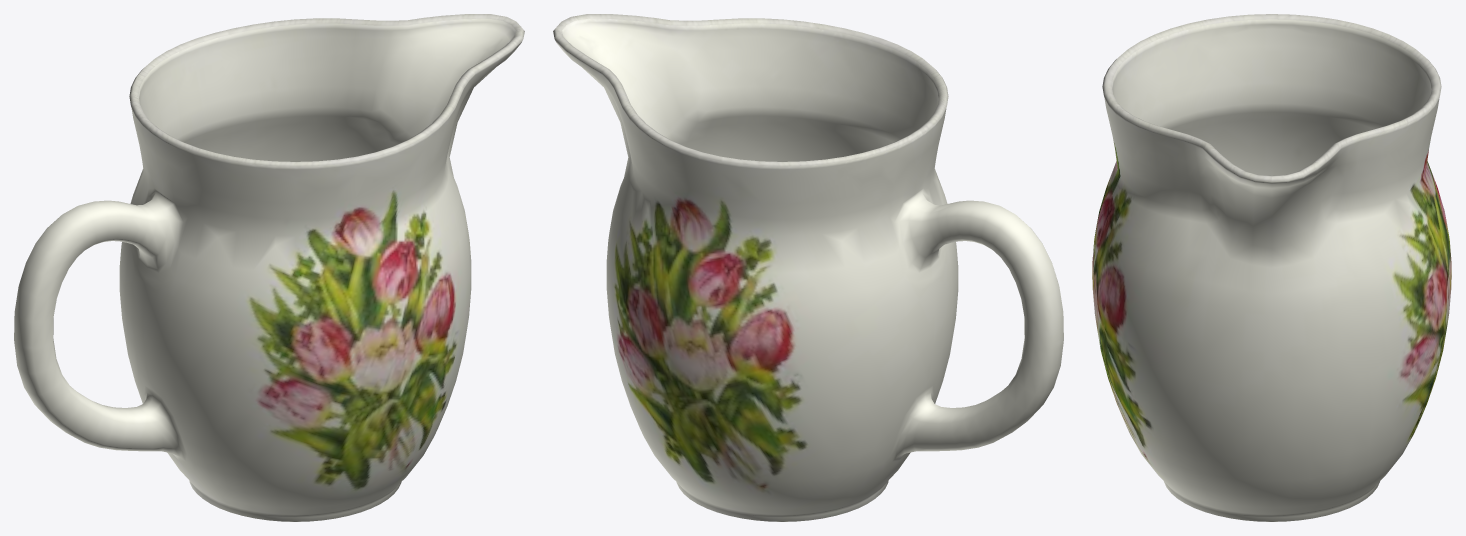
File: jug_01.glb
The picture shows the model from 3 angles, left to right: view 1: azimuth 30°, elevation 25°; view 2: azimuth 150°, elevation 25°; view 3: azimuth 270°, elevation 25°; orthographic projection. The views are drawn at different scales.
Visible parts, largest first — view 1: jug_01; view 2: jug_01; view 3: jug_01.
Part boxes in pixels (x1,y1,x2,y2): jug_01: [14, 14, 524, 521]; jug_01: [553, 14, 1063, 521]; jug_01: [1092, 14, 1451, 521].
Size of the model in its own units: 0.2753 by 0.2113 by 0.1675.
Materials: 1 (1 with a texture image).
